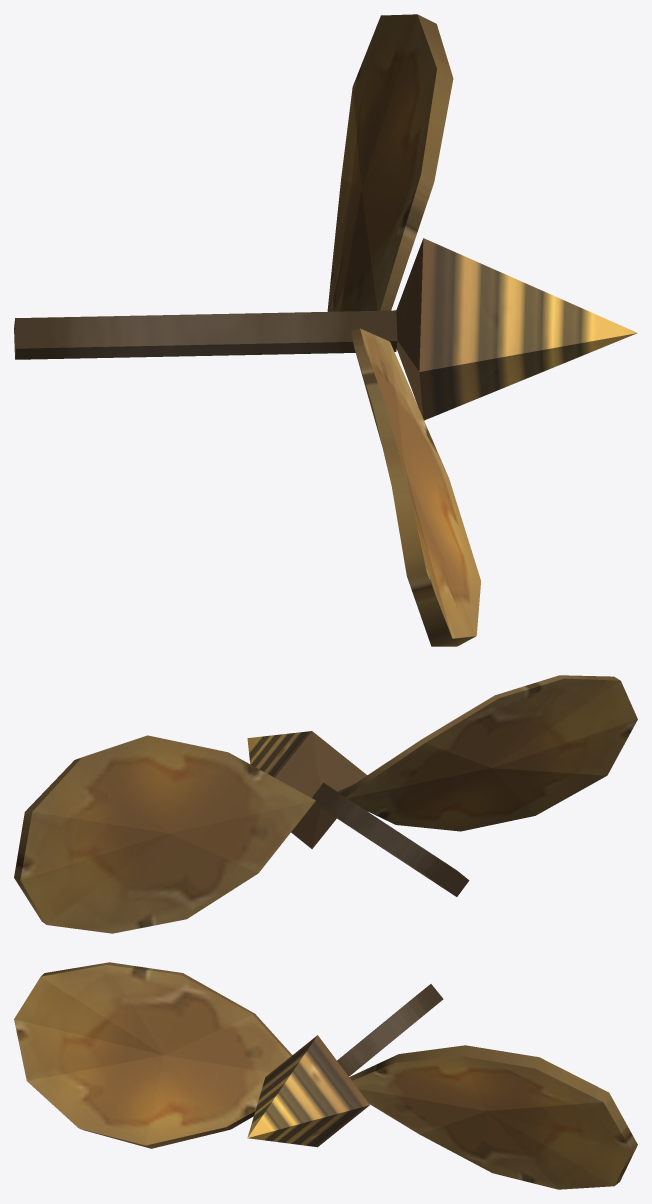
File: add_head10_Propeller.FBX
The picture shows the model from 3 angles, top to bottom: view 1: azimuth 30°, elevation 25°; view 2: azimuth 150°, elevation 25°; view 3: azimuth 270°, elevation 25°; orthographic projection. The views are drawn at different scales.
Visible parts, largest first — view 1: propeller; view 2: propeller; view 3: propeller.
Part boxes in pixels (<box>): propeller: <box>14,14,637,646</box>; propeller: <box>14,675,637,933</box>; propeller: <box>14,962,637,1189</box>.
Bounding box in the file's own units: 0.3729 × 0.1866 × 0.612.
